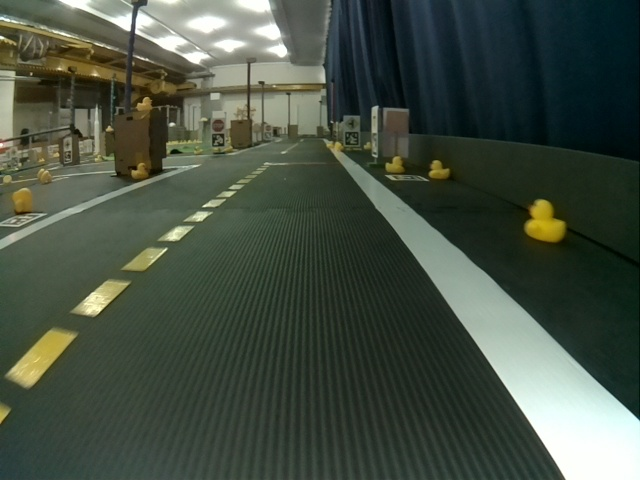Duckie: (525, 202, 562, 239), (10, 188, 34, 210), (384, 154, 402, 173), (430, 161, 450, 178), (132, 163, 147, 179), (137, 98, 151, 108), (40, 170, 51, 182)
QR code: (7, 213, 44, 227), (212, 133, 224, 147)
Stop sign: (212, 120, 224, 132)
